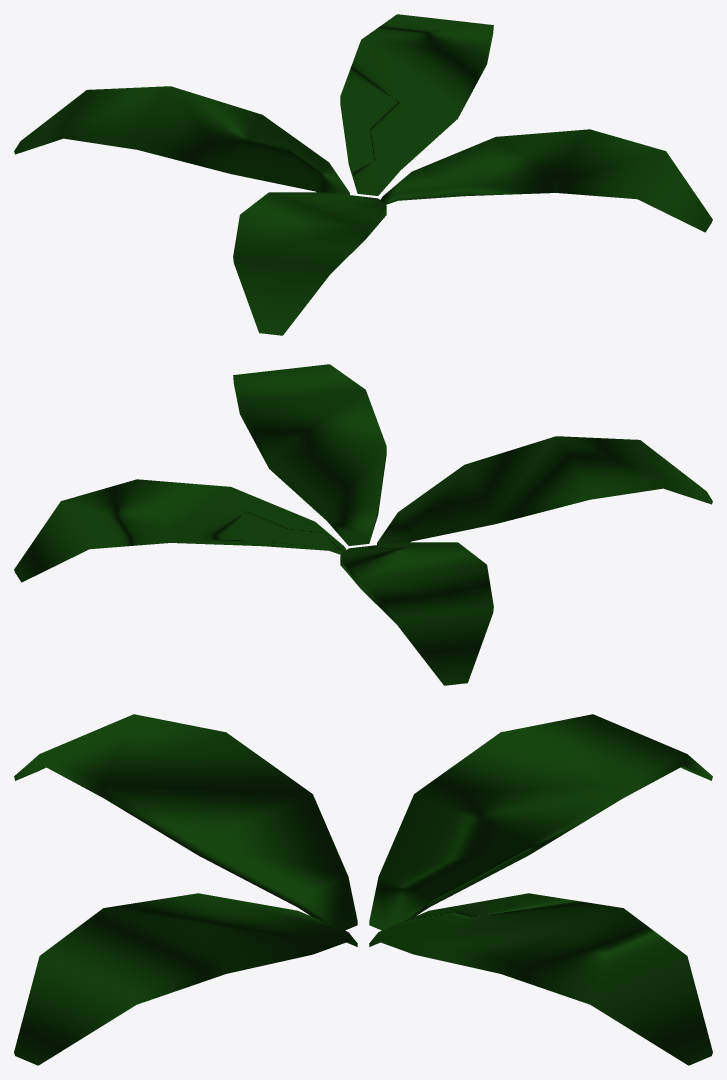
Rendered from Plant_1.obj.
3 renders of one model, top to bottom at view 1: azimuth 30°, elevation 25°; view 2: azimuth 150°, elevation 25°; view 3: azimuth 270°, elevation 25°, orthographic. The views are drawn at different scales.
Visible parts, largest first — view 1: Plant_1; view 2: Plant_1; view 3: Plant_1.
Boxes of the visible parts, <box> form: Plant_1: <box>14,14,712,335</box>; Plant_1: <box>14,364,712,685</box>; Plant_1: <box>14,714,712,1065</box>.
Bounding box in the file's own units: 137 × 19.45 × 137.
